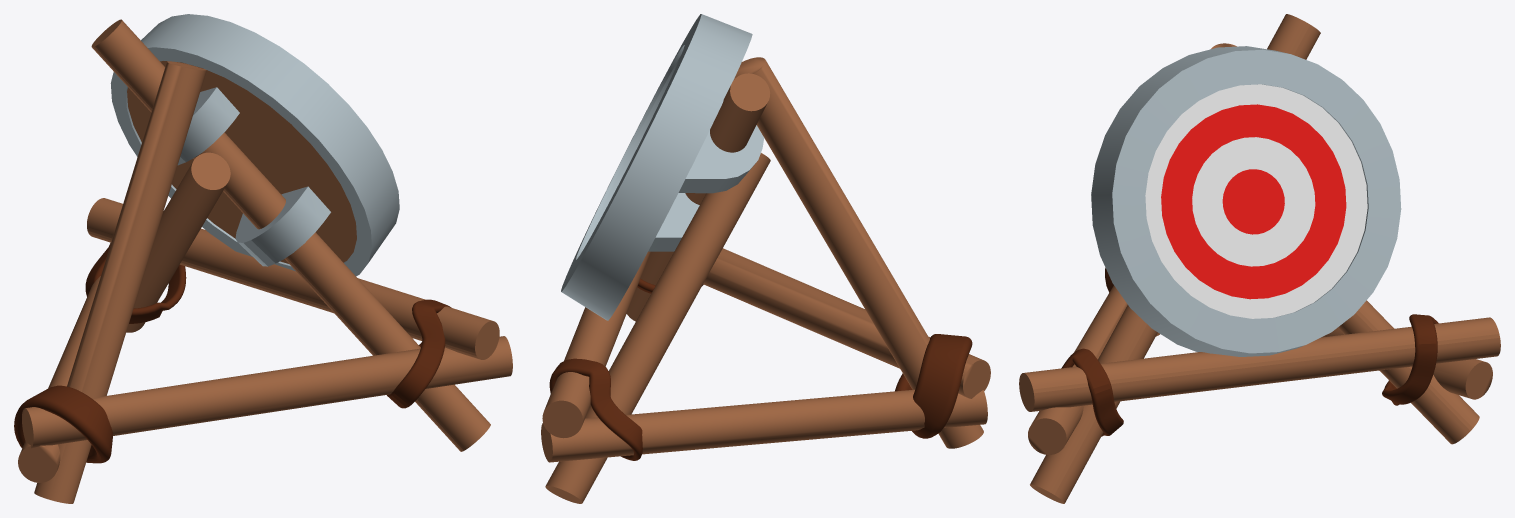
The model's file is target.glb.
The picture shows the model from 3 angles, left to right: view 1: azimuth 30°, elevation 25°; view 2: azimuth 150°, elevation 25°; view 3: azimuth 270°, elevation 25°; orthographic projection. The views are drawn at different scales.
Visible parts, largest first — view 1: target; view 2: target; view 3: target.
Part boxes in pixels (bbox=[...]): target: bbox=[14, 14, 512, 503]; target: bbox=[541, 14, 990, 503]; target: bbox=[1019, 14, 1500, 503].
Size of the model in its own units: 2.98 by 2.58 by 2.92.
